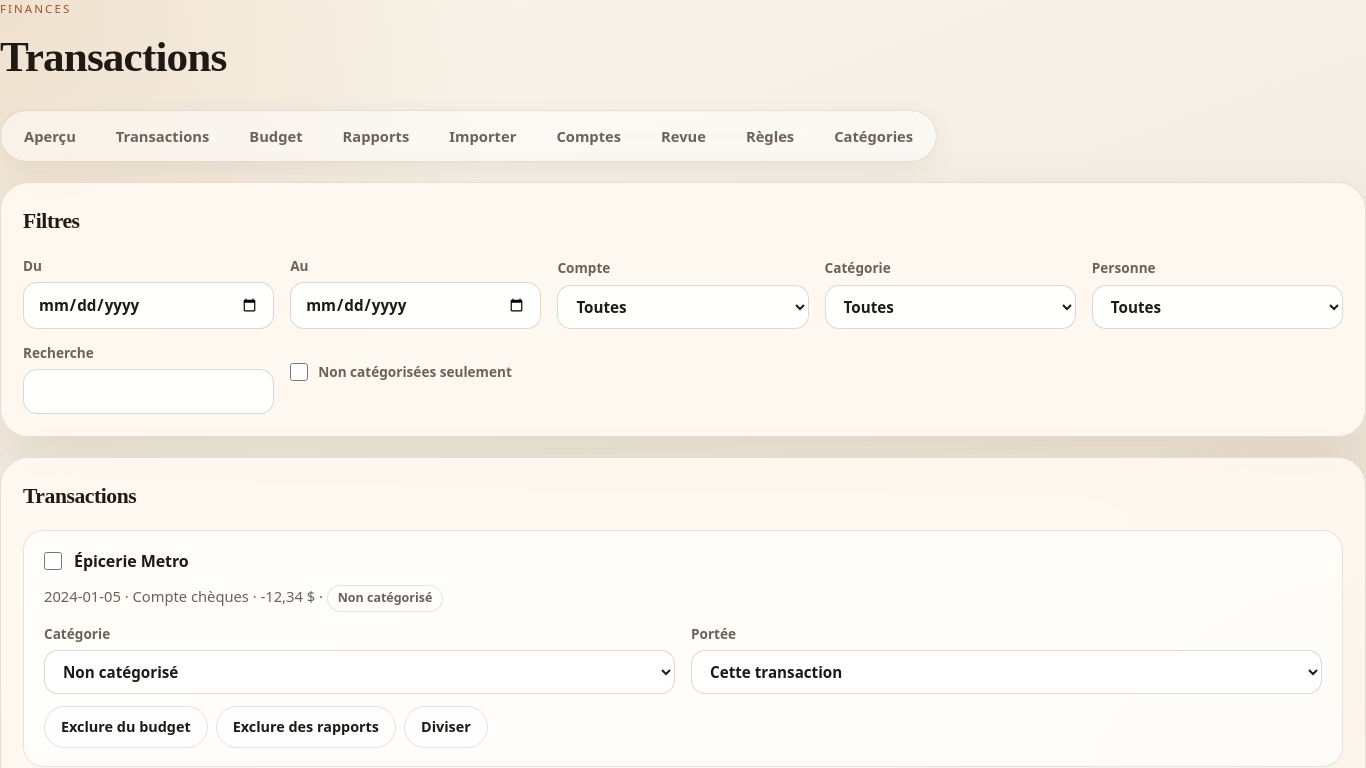
it: FinanceTransactionsPage › disables the transfer-pair button unless exactly two rows are selected
The width and height of the screenshot is (1366, 768).
Check: the heading "Épicerie Metro" is shown, box left=74, top=549, right=189, bottom=573
Step 1. Click the 2nd checkbox → coordinates (53, 561), box left=44, top=552, right=62, bottom=570
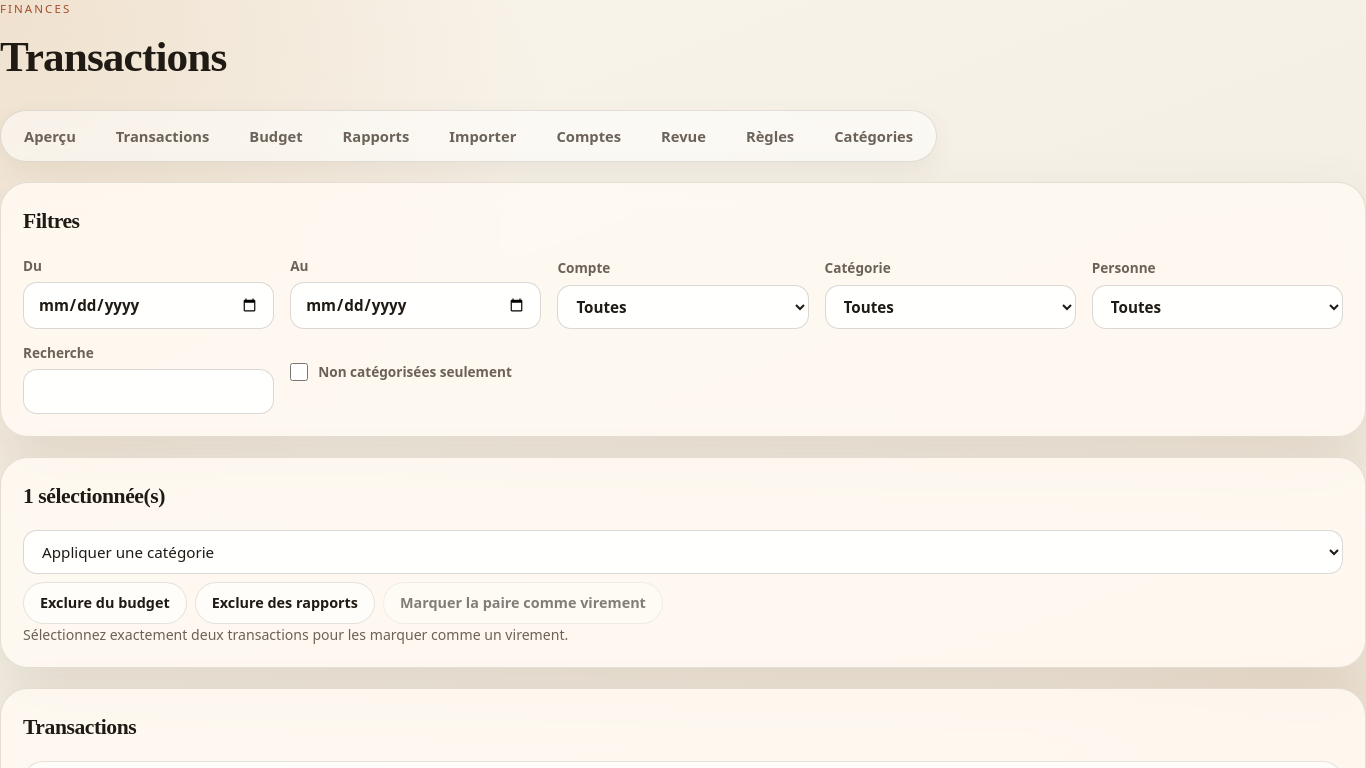
Check: the button "Marquer la paire comme virement" is disabled, box left=383, top=582, right=663, bottom=624
